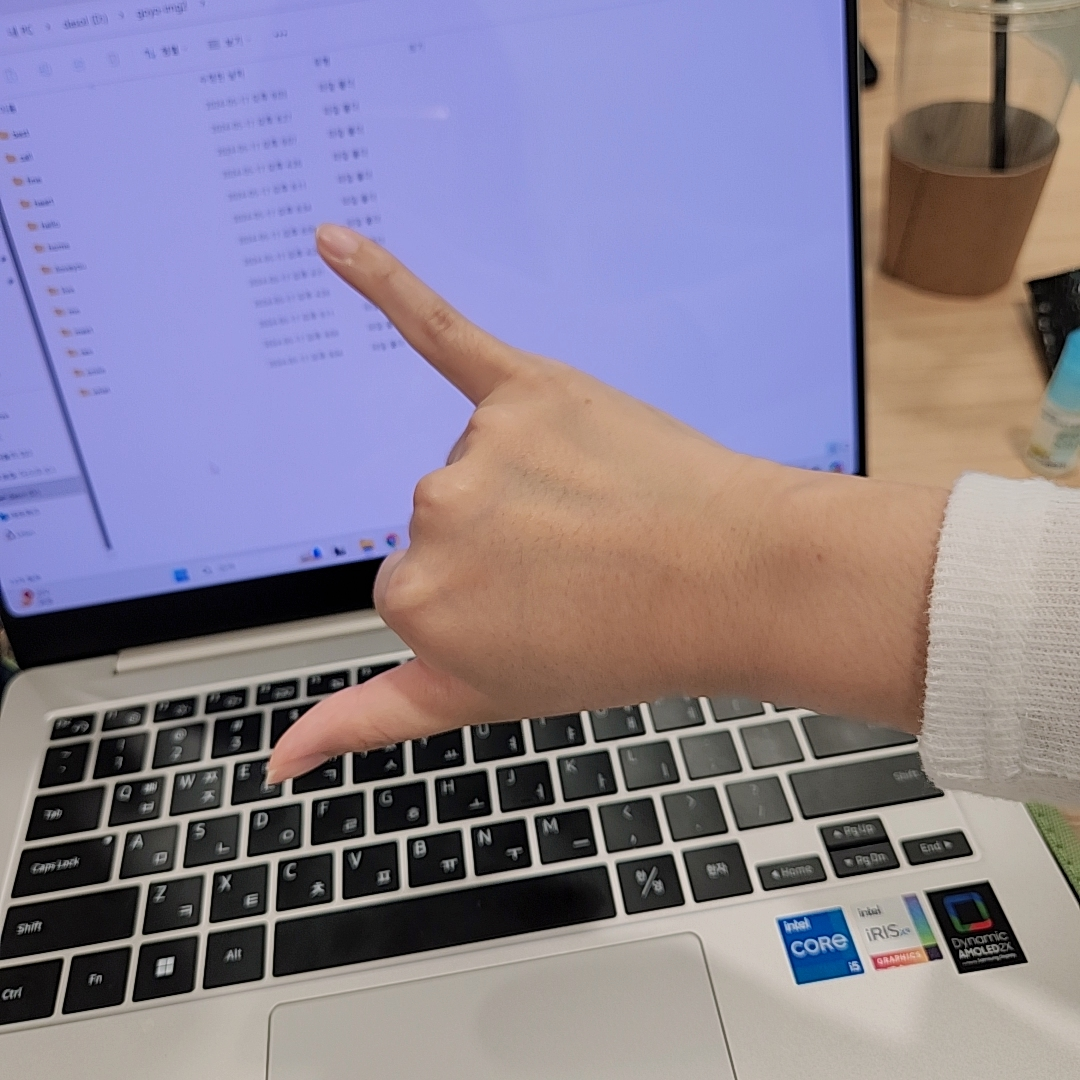call: (266, 223, 693, 788)
